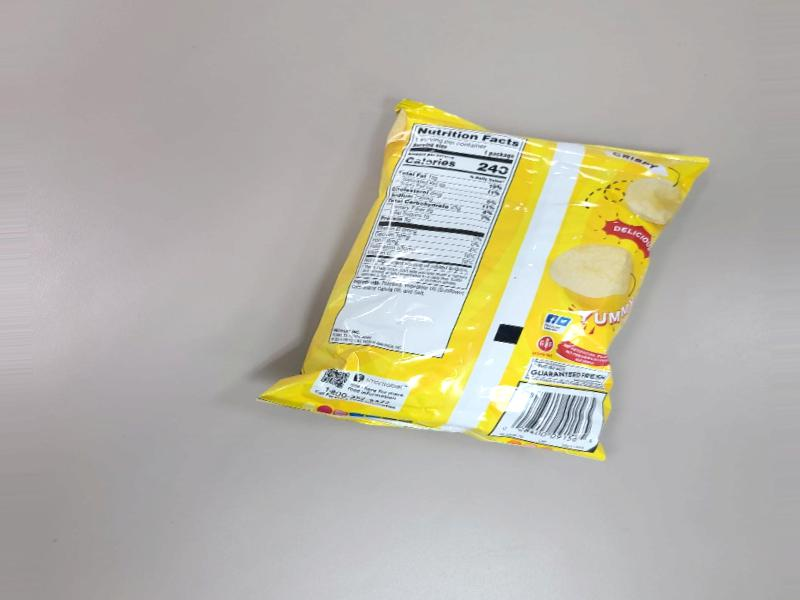lays: (283, 107, 679, 443)
